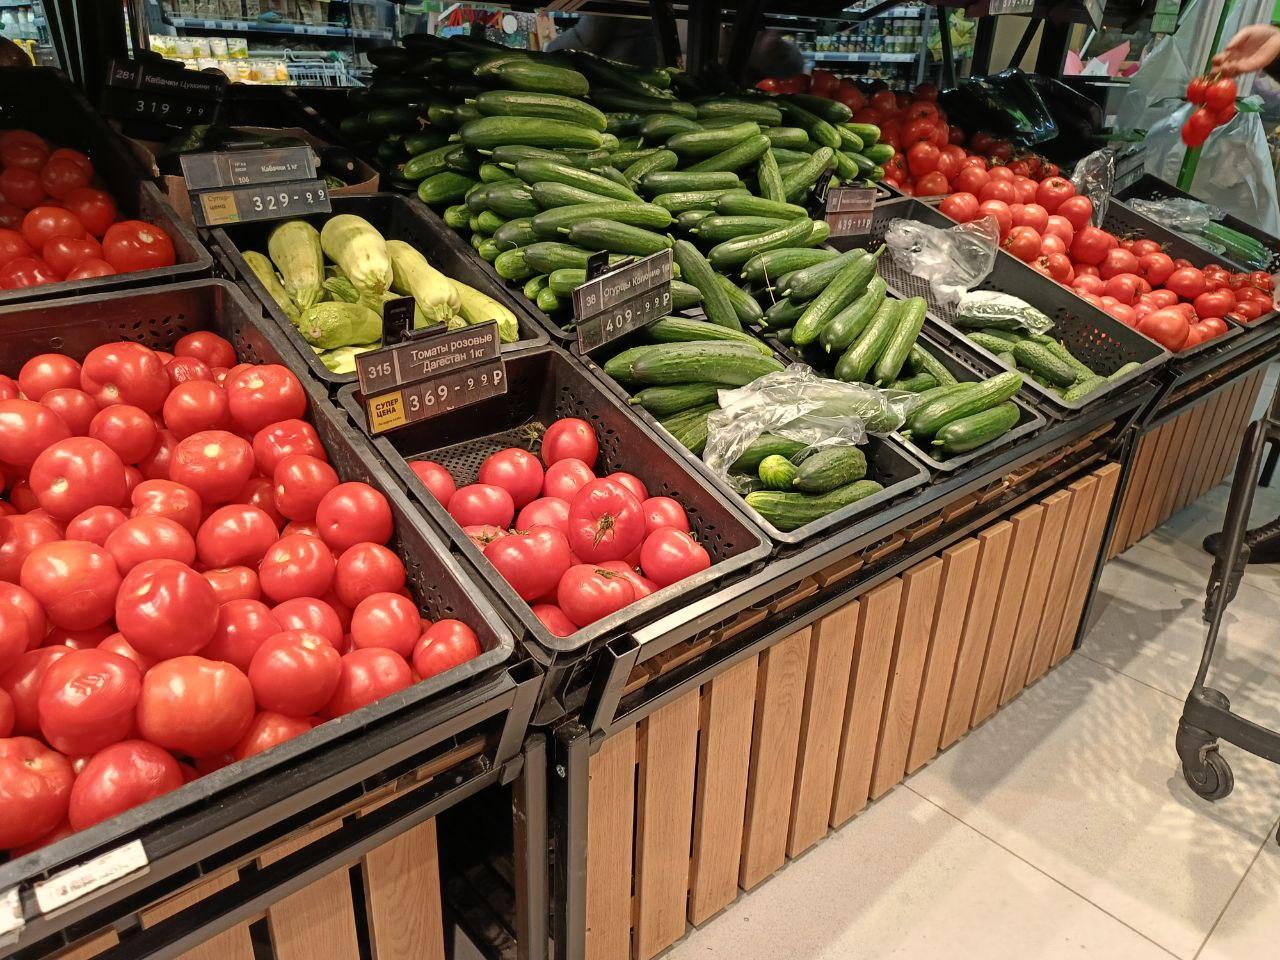cucumber: (608, 320, 884, 528), (403, 93, 677, 300), (757, 252, 1024, 454), (624, 98, 883, 235)
tomato: (0, 324, 476, 826), (904, 142, 1280, 344), (401, 425, 718, 644), (0, 129, 174, 304)
